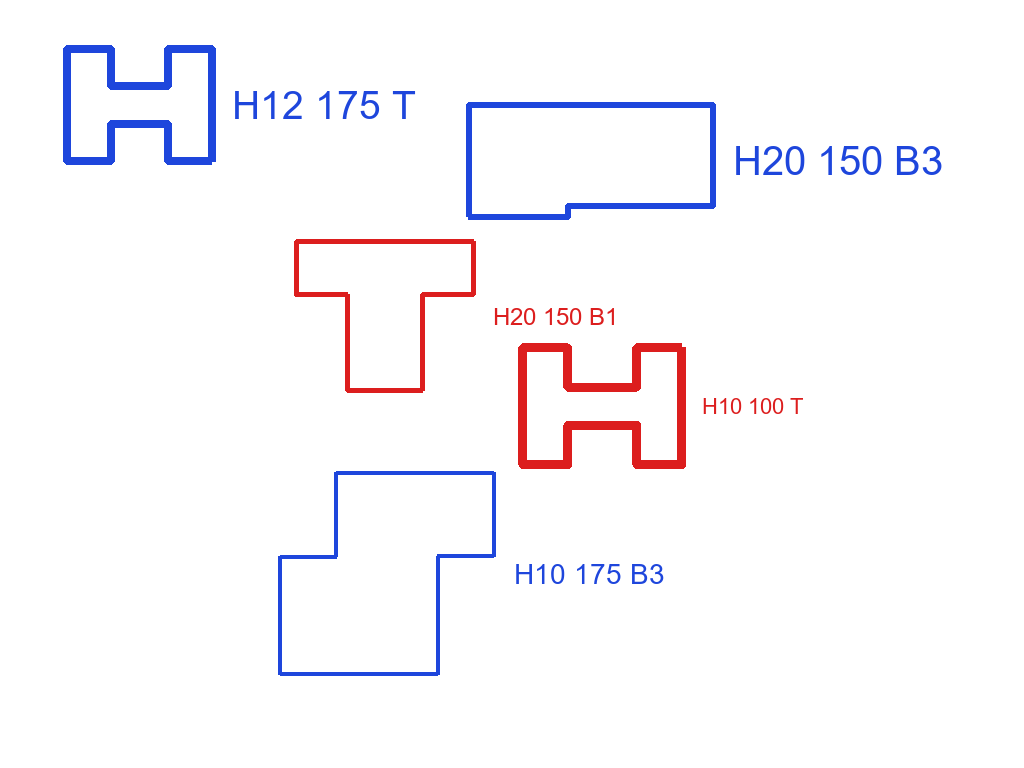shape: (276, 469, 498, 679), (463, 100, 718, 221), (292, 237, 478, 395), (516, 341, 688, 471), (61, 42, 218, 168)
text: (731, 144, 945, 177), (230, 89, 418, 121), (512, 562, 667, 586), (491, 306, 620, 327), (700, 396, 805, 416)
